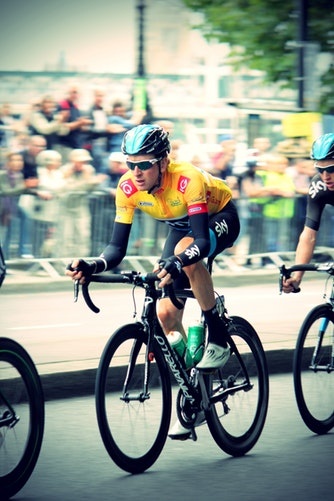helmet: (121, 117, 167, 157)
